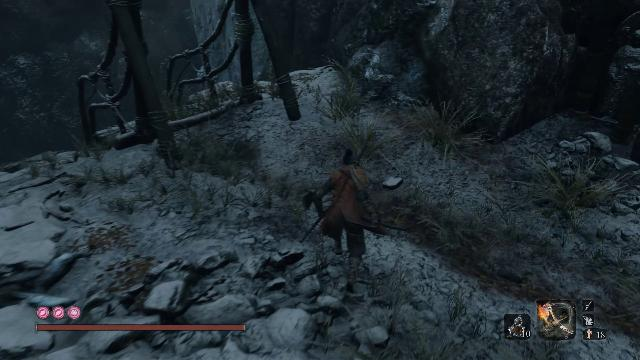sk: (298, 150, 384, 294)
